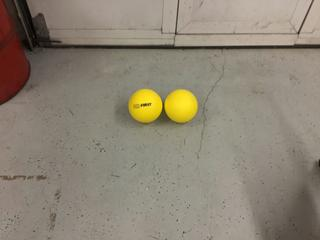power_cell: (126, 87, 164, 125), (164, 87, 200, 125)
